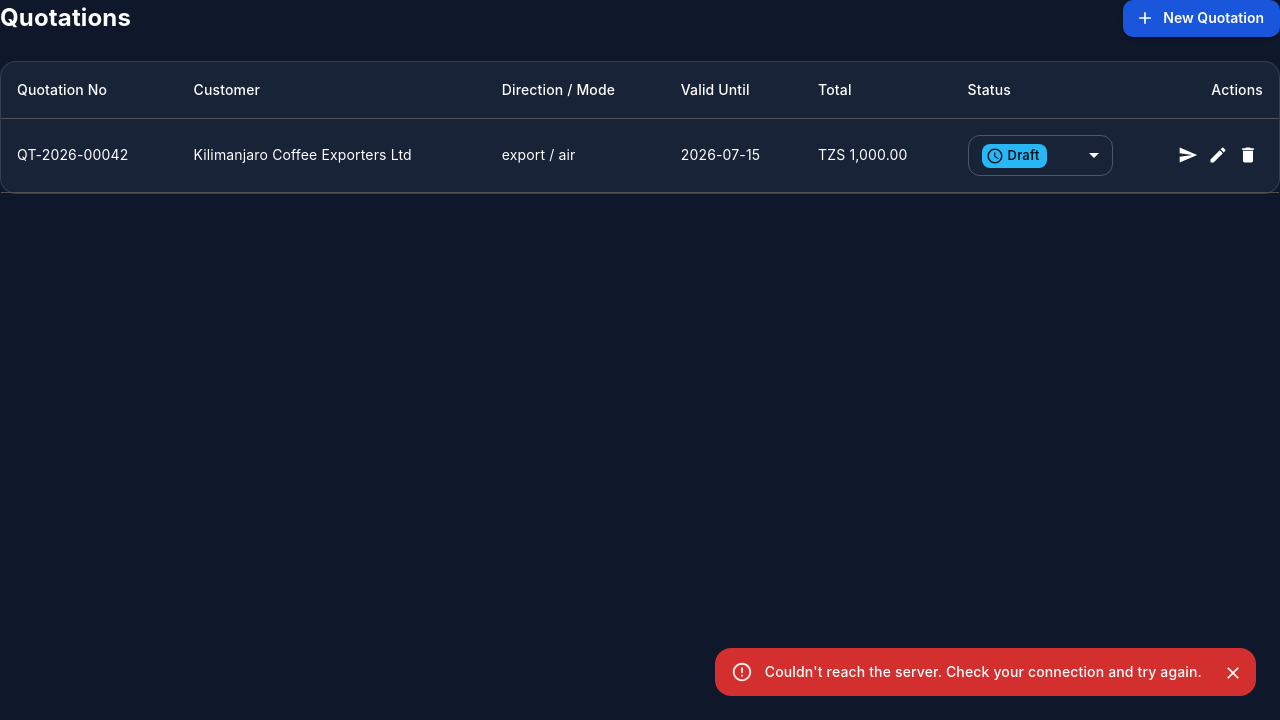
it: QuotationsPage › opens a confirmation dialog instead of deleting immediately when the delete icon is clicked
Expected: the text "QT-2026-00042" is shown, [1,118,178,193]
Step 1. Click the button named "Delete" → [1248, 155], box [1233,140,1263,170]
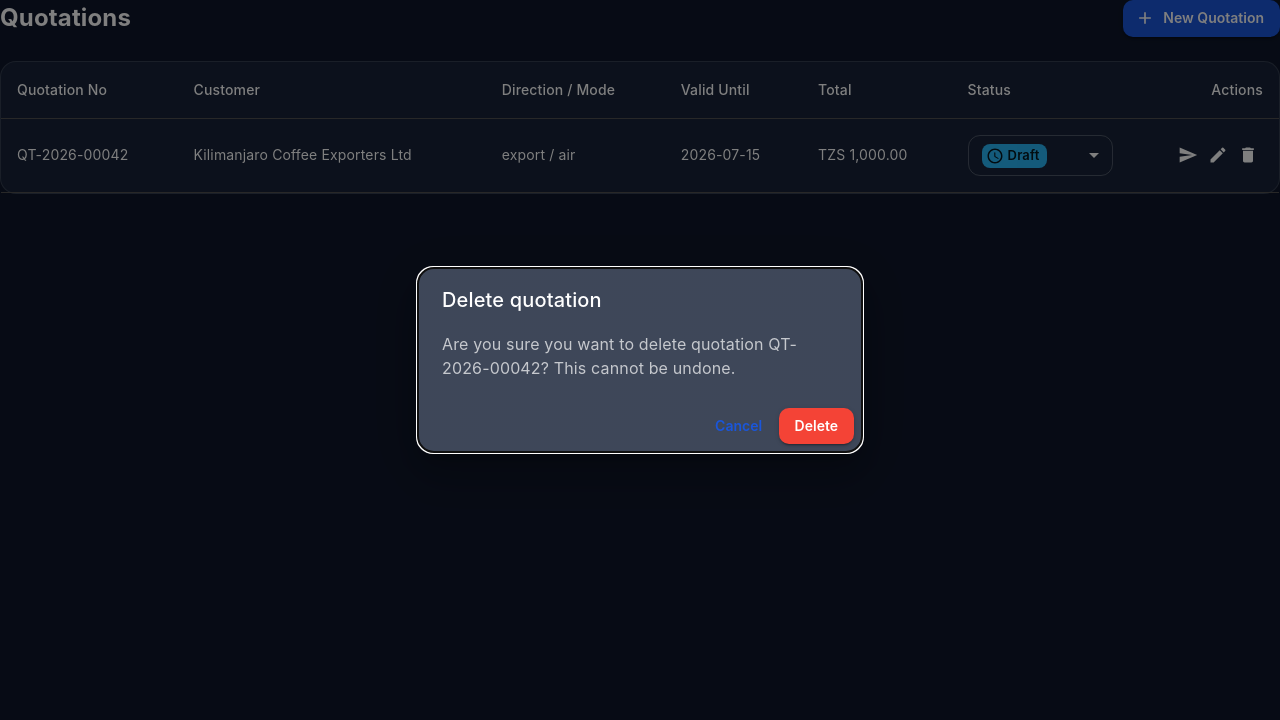
Now the heading "Delete quotation" is shown, box [442,288,602,312]
